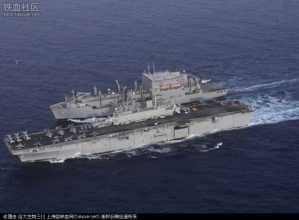warship: (5, 82, 252, 166), (48, 61, 227, 121)
